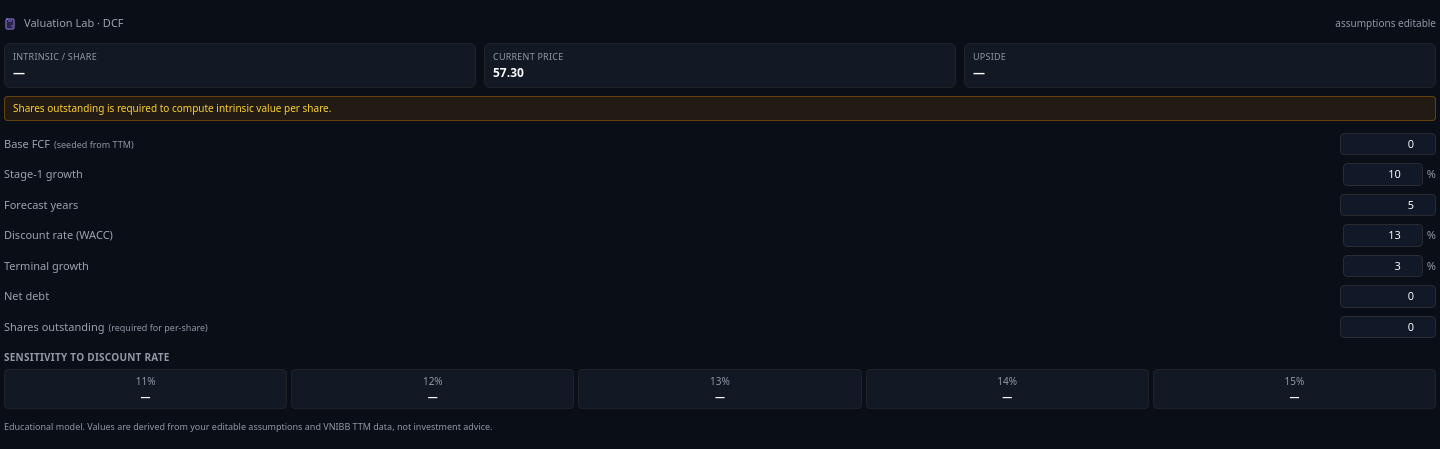
Test: ValuationLabWidget price-unit comparison › compares an explicitly VND quote against the DCF intrinsic value
This screenshot has width=1440, height=449.
Step 1. Replace the text in the number field labelled "Shares outstanding(required for per-share)" with "100" → (1388, 327), box [1340,316,1436,338]
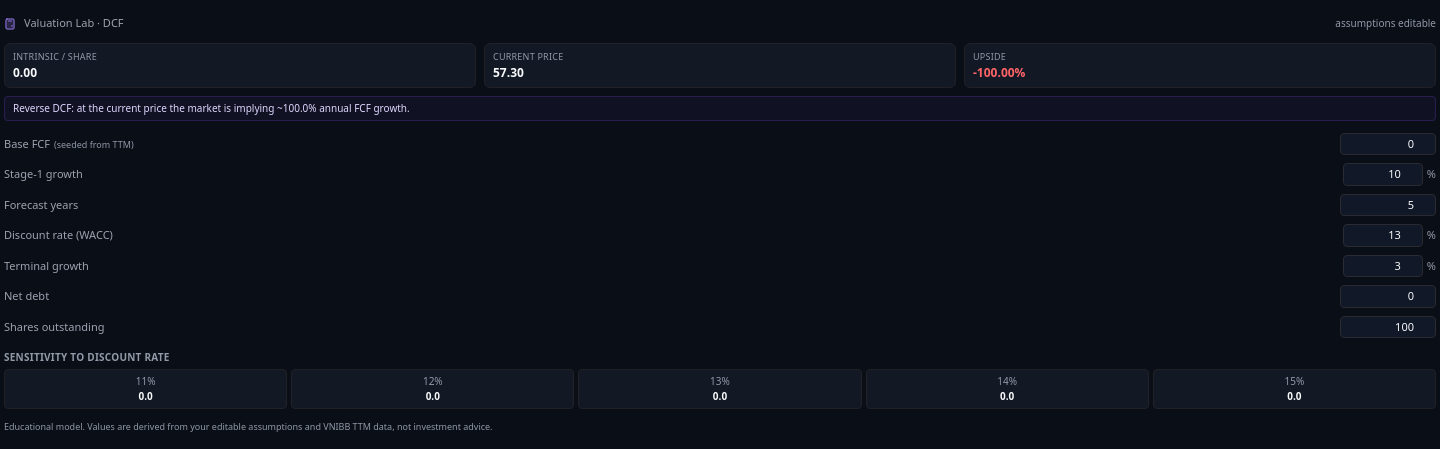
Expected: the text "57.30" is shown, [493,64,524,80]
Expected: the text "Reverse DCF" is shown, [13,101,283,115]
